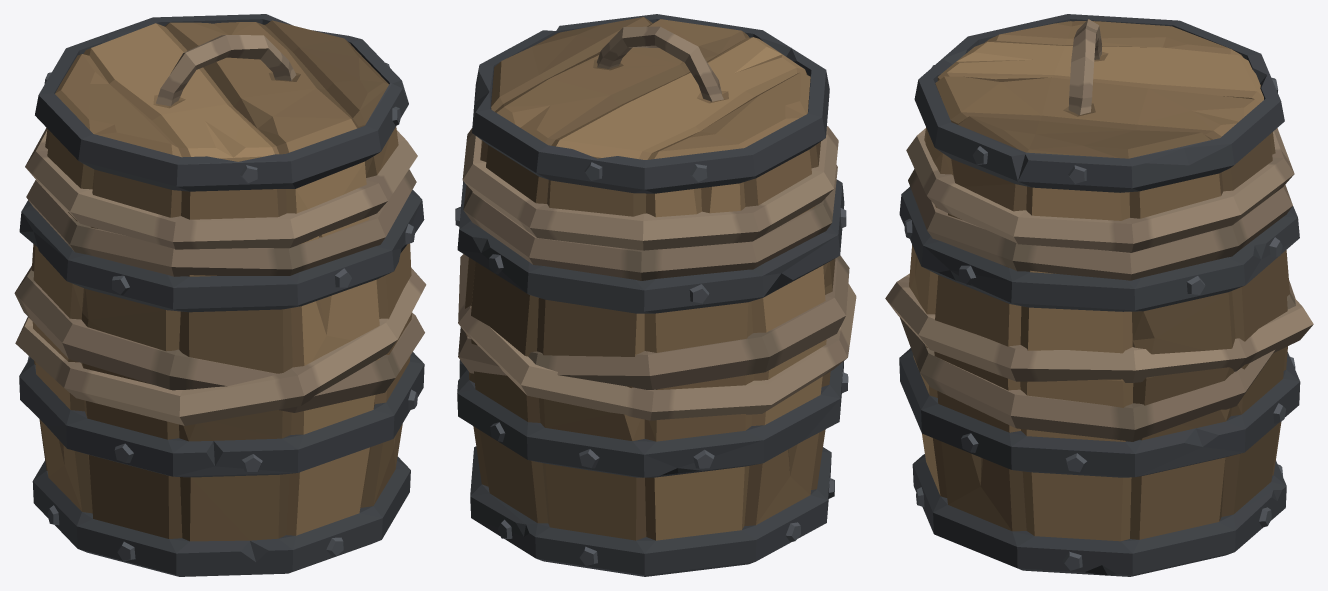
The model's file is SM_Prop_Barrel_02.fbx.
The picture shows the model from 3 angles, left to right: view 1: azimuth 30°, elevation 25°; view 2: azimuth 150°, elevation 25°; view 3: azimuth 270°, elevation 25°; orthographic projection.
Visible parts, largest first — view 1: SM_Prop_Barrel_02, SM_Prop_Barrel_02_Lid; view 2: SM_Prop_Barrel_02, SM_Prop_Barrel_02_Lid; view 3: SM_Prop_Barrel_02, SM_Prop_Barrel_02_Lid.
Part boxes in pixels (x1,y1,x2,y2): SM_Prop_Barrel_02: (14, 14, 426, 576); SM_Prop_Barrel_02_Lid: (55, 20, 388, 161); SM_Prop_Barrel_02: (455, 14, 856, 576); SM_Prop_Barrel_02_Lid: (491, 17, 810, 159); SM_Prop_Barrel_02: (885, 14, 1313, 576); SM_Prop_Barrel_02_Lid: (935, 19, 1263, 158).
Bounding box in the file's own units: 82 × 106 × 86.76.
